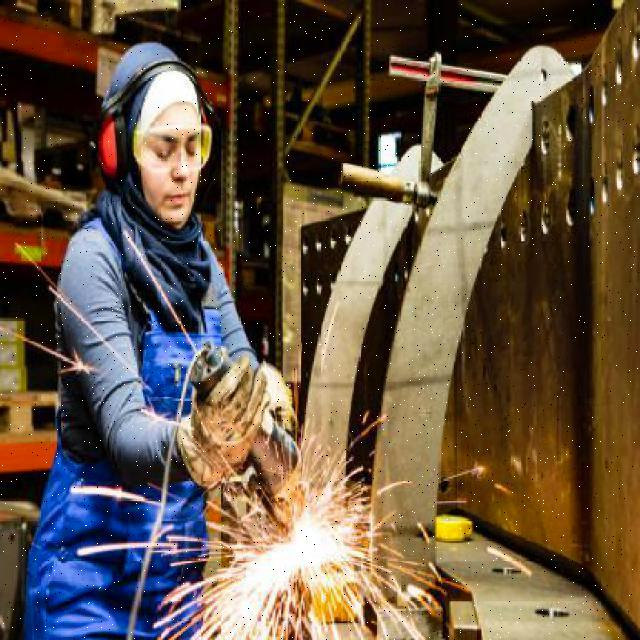Person: (48, 38, 266, 640)
